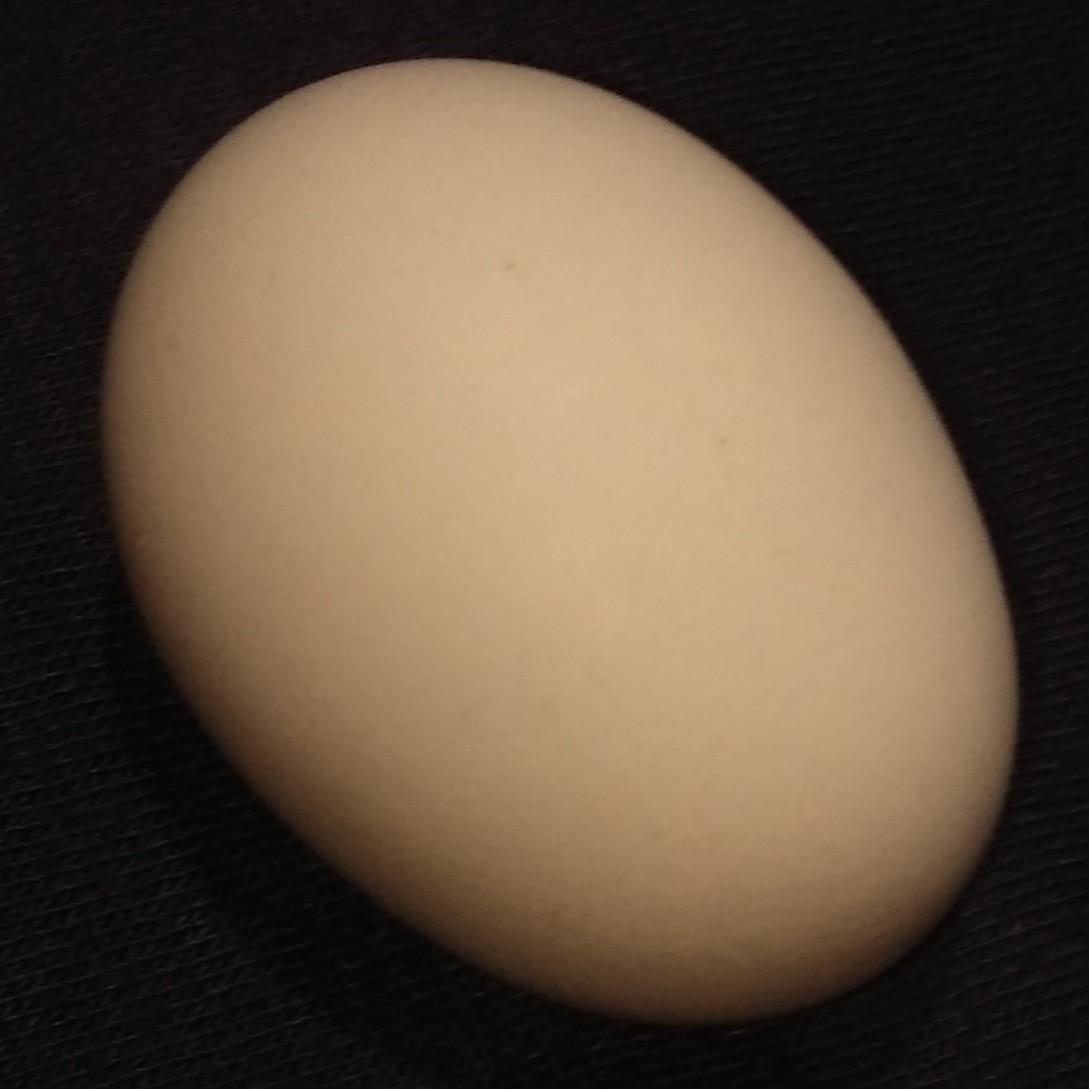egg: (108, 51, 1020, 1032)
